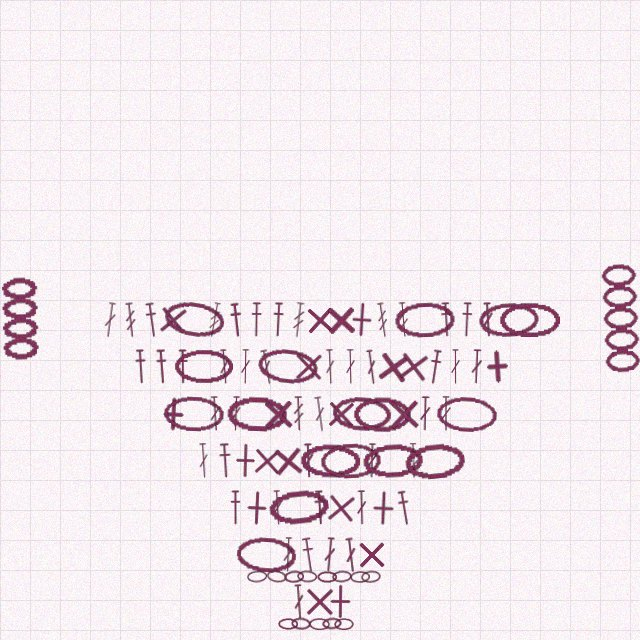chain: (162, 298, 226, 341), (256, 346, 320, 387), (267, 487, 330, 528), (403, 441, 466, 481), (235, 535, 298, 574), (331, 395, 393, 433), (478, 301, 540, 339), (362, 442, 423, 480), (436, 395, 497, 433), (320, 442, 382, 479), (163, 395, 225, 432), (394, 301, 456, 338), (226, 395, 287, 432), (300, 443, 360, 479), (499, 302, 560, 337), (353, 396, 412, 432), (174, 349, 233, 384), (266, 569, 287, 584), (291, 617, 311, 630), (322, 617, 342, 630), (247, 570, 267, 583), (284, 570, 304, 583), (297, 570, 317, 583), (332, 570, 352, 583), (361, 570, 381, 583), (309, 618, 330, 630), (278, 618, 298, 630), (334, 618, 354, 630), (317, 571, 337, 583), (350, 571, 370, 583)
double: (258, 349, 275, 385), (343, 537, 359, 573), (312, 396, 328, 432), (102, 302, 118, 338), (364, 349, 379, 385), (322, 537, 337, 572), (292, 584, 306, 619), (208, 396, 222, 431), (481, 302, 495, 337), (271, 490, 284, 525), (197, 443, 210, 478), (302, 443, 315, 478), (218, 349, 231, 384), (470, 349, 483, 384), (282, 537, 294, 572), (366, 443, 378, 478), (230, 396, 242, 431), (419, 396, 431, 431), (440, 396, 452, 431), (324, 349, 336, 384), (356, 490, 367, 525), (240, 349, 251, 384), (345, 349, 356, 384), (450, 349, 461, 384)
enseble_chain: (598, 263, 640, 376), (0, 276, 42, 363)
half_double: (299, 537, 318, 573), (395, 490, 413, 526), (426, 349, 444, 385), (143, 302, 160, 338), (228, 302, 244, 338), (217, 443, 233, 478), (312, 490, 327, 525), (133, 349, 148, 384), (154, 349, 169, 384), (271, 302, 285, 337), (439, 302, 453, 337), (460, 302, 474, 337), (229, 490, 242, 525), (176, 349, 189, 384), (250, 302, 263, 337)
single: (373, 347, 413, 387), (394, 347, 433, 386), (322, 489, 360, 527), (269, 442, 307, 480), (154, 301, 192, 339), (479, 348, 516, 385), (343, 301, 380, 338), (239, 490, 275, 526), (365, 490, 401, 526), (249, 443, 285, 479), (155, 396, 191, 432), (260, 396, 296, 432), (323, 396, 359, 432), (386, 396, 422, 432), (302, 302, 338, 338), (323, 302, 359, 338), (302, 584, 337, 619), (323, 584, 358, 619), (354, 537, 389, 572), (228, 443, 263, 478), (291, 349, 326, 384)
treble: (206, 302, 223, 338), (123, 302, 138, 338), (291, 302, 306, 338), (375, 302, 390, 338), (407, 443, 420, 478), (292, 396, 305, 431), (397, 302, 410, 337)
